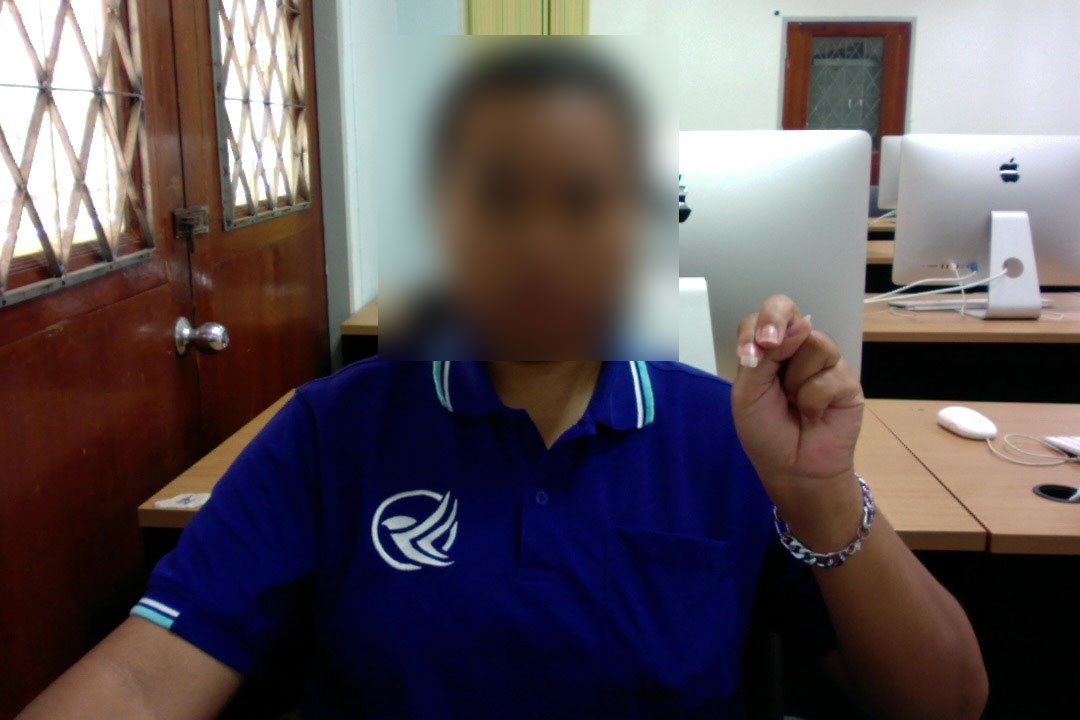nor: (723, 291, 872, 491)
